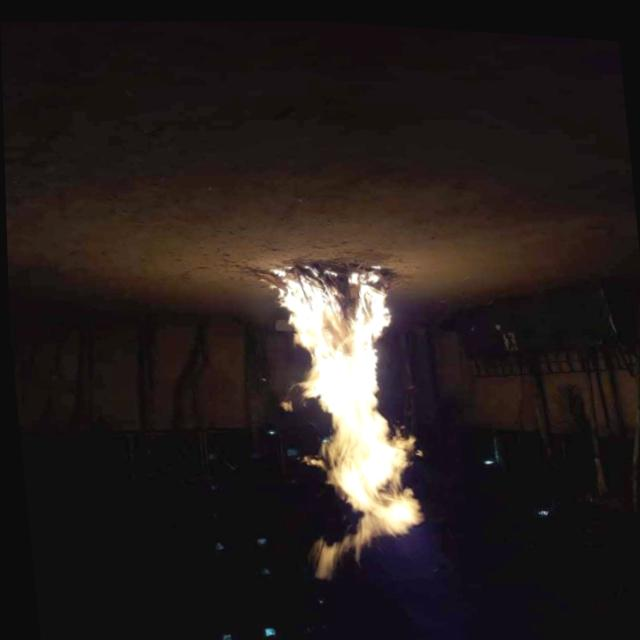Fire: (260, 250, 429, 584)
